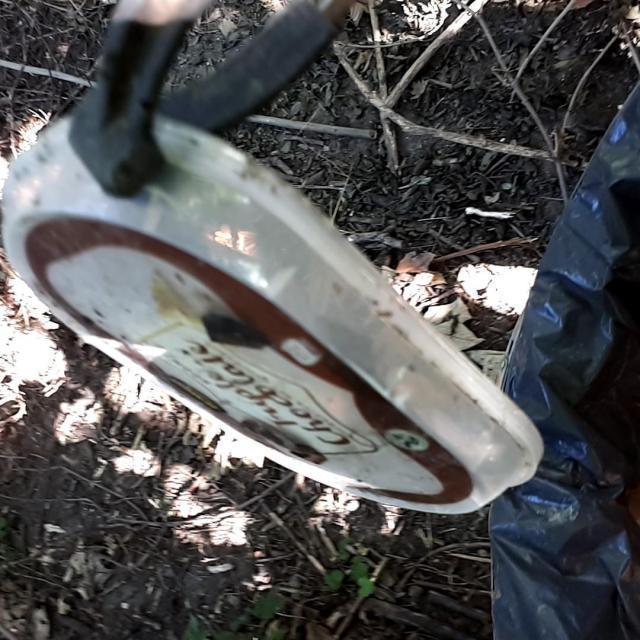Paper: (0, 105, 549, 518)
